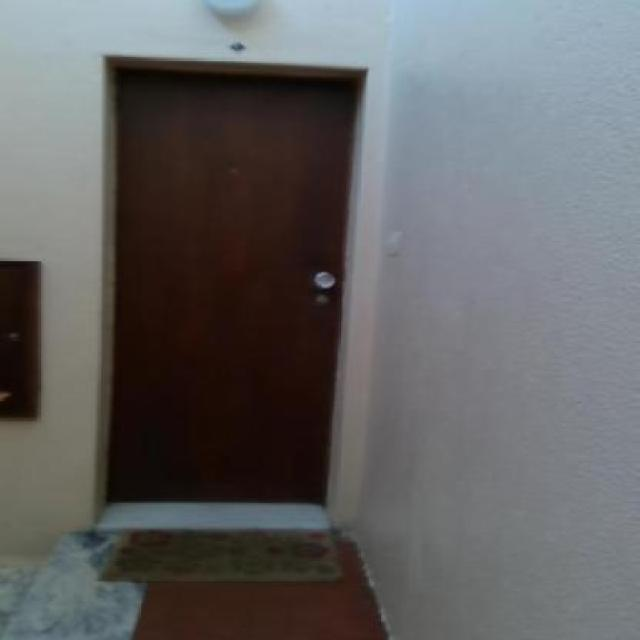door_handle: (306, 265, 337, 317)
